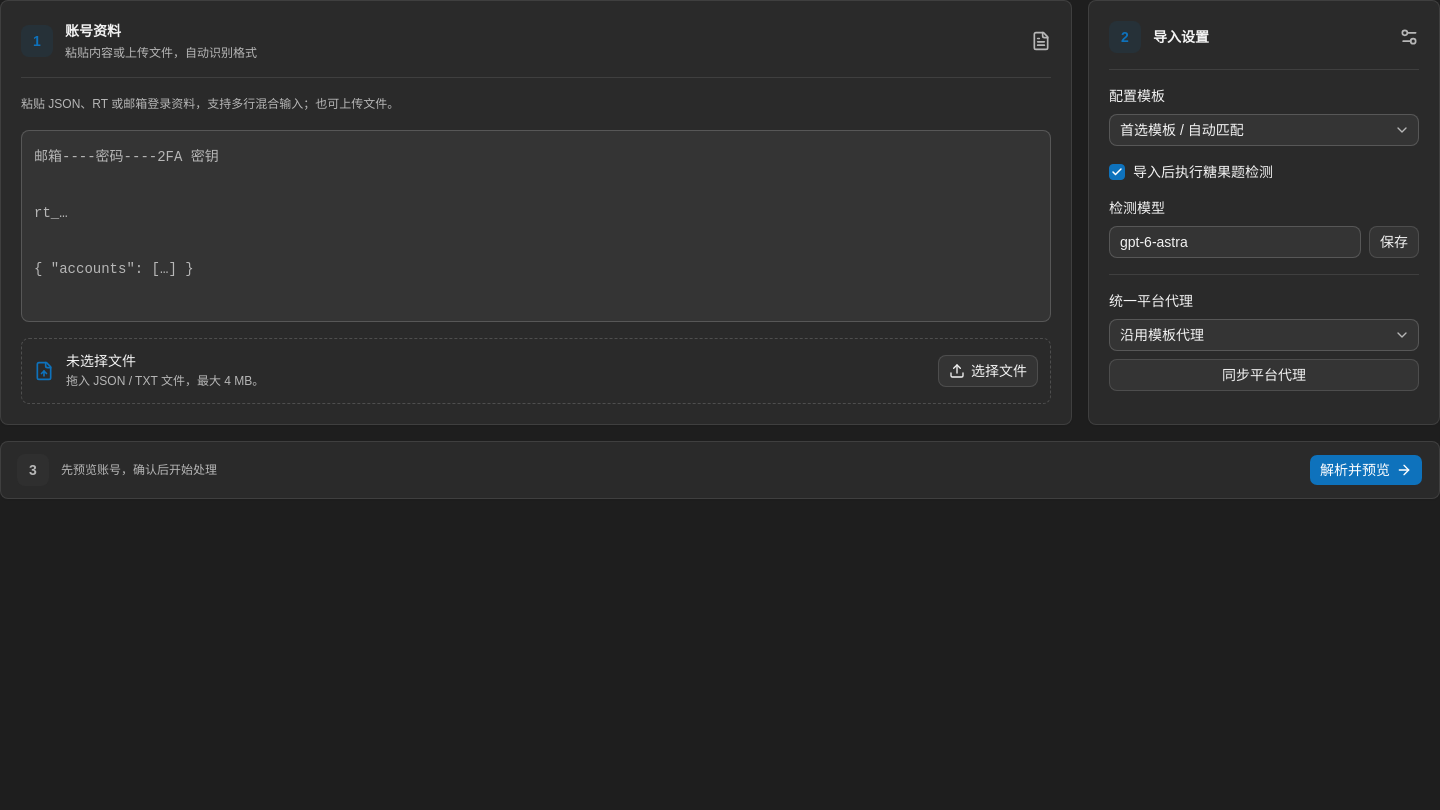
修改检测模型后预览请求严格使用输入值且说明检测未通过时保留账号且不开启调度
Check: the checkbox named "导入后执行糖果题检测" is checked, box [1109,164,1125,180]
Replace the text in the field labelled "检测模型" with "gpt-5.6-luna" at (1235, 242), box [1109,226,1361,258]
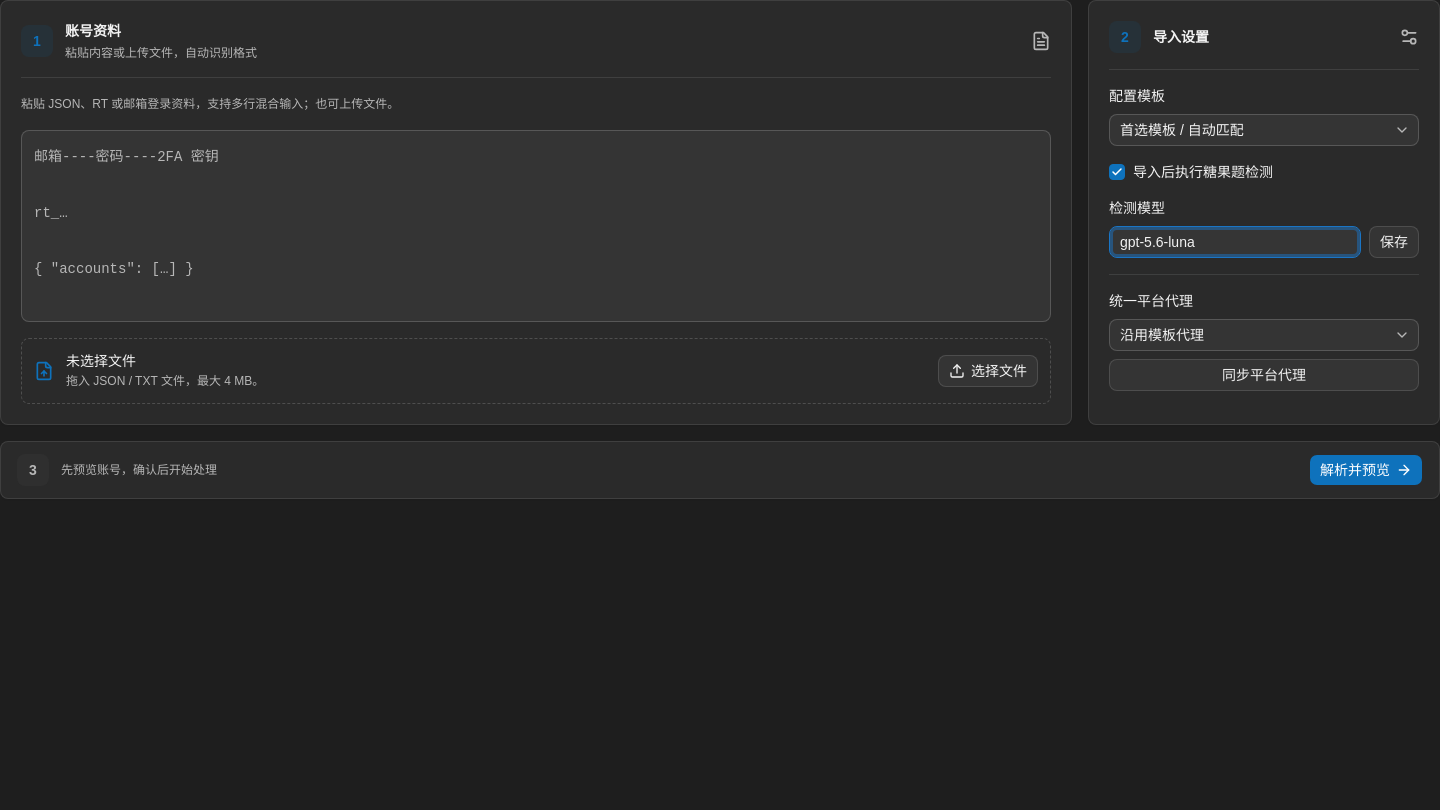
Type "rt_input" into the text box labelled "账号资料" at (536, 226), box [21,130,1051,322]
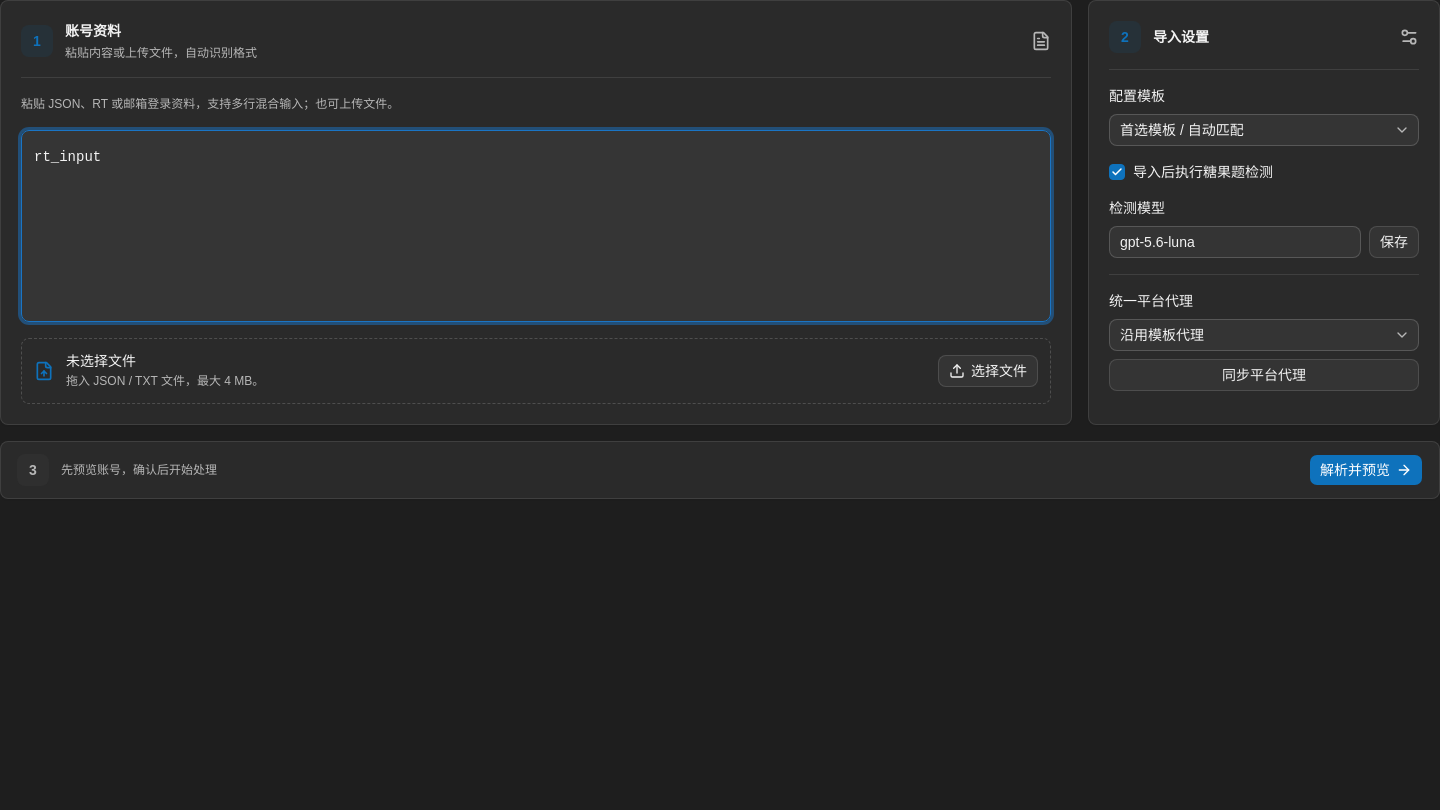
Click the button "解析并预览" at (1366, 470), box [1309,454,1423,486]
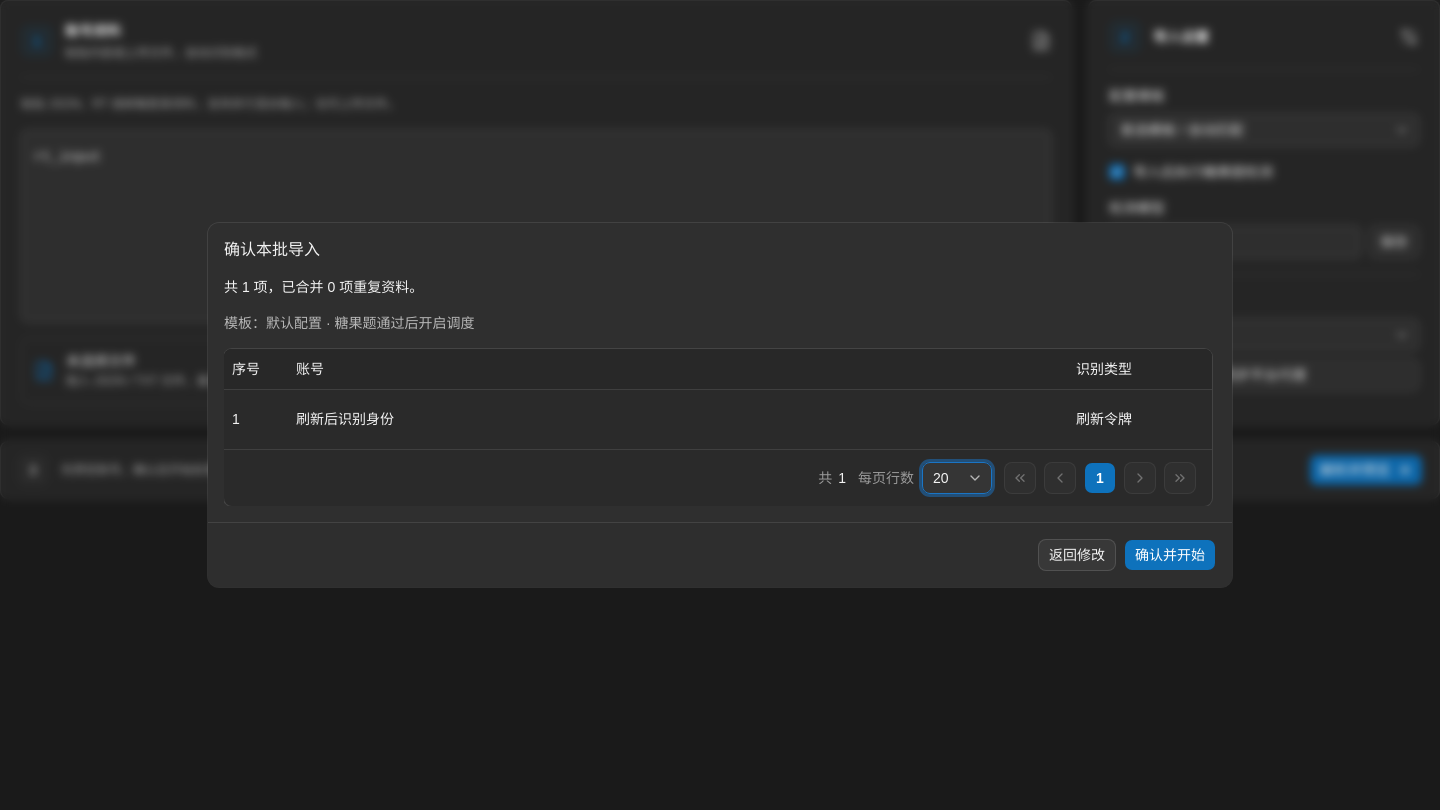
Check: the dialog is shown, box [208,223,1232,587]
